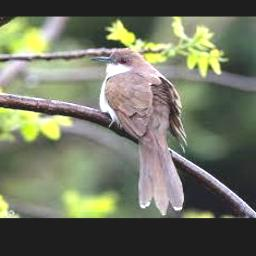Cuckoo: (92, 48, 188, 215)
